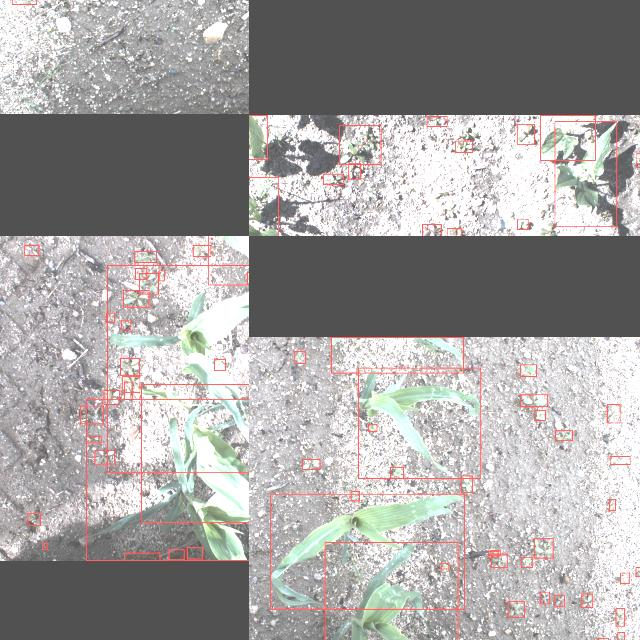crop: (106, 264, 249, 472), (86, 398, 249, 560), (270, 493, 464, 609), (142, 383, 249, 522), (358, 367, 480, 478), (324, 541, 457, 640), (555, 120, 617, 226), (331, 336, 463, 372), (540, 114, 596, 160), (208, 236, 249, 284), (249, 175, 278, 236), (249, 114, 268, 159)
weed: (339, 124, 381, 164), (80, 405, 104, 423), (123, 290, 149, 306), (534, 538, 554, 558), (140, 272, 158, 294), (517, 123, 535, 143), (520, 394, 548, 406), (120, 358, 140, 374), (124, 552, 160, 560), (122, 376, 140, 392), (95, 450, 115, 464), (606, 403, 620, 422), (134, 250, 156, 262), (508, 601, 524, 617), (322, 172, 343, 184), (422, 223, 441, 236), (104, 390, 120, 404), (491, 553, 507, 567), (193, 244, 211, 256), (427, 115, 447, 125), (349, 162, 361, 178), (456, 140, 472, 152), (520, 364, 536, 376), (462, 474, 472, 492), (302, 459, 320, 469), (187, 548, 203, 558), (168, 550, 184, 560), (610, 456, 630, 464), (556, 430, 572, 440), (28, 513, 40, 525), (214, 358, 226, 370), (124, 381, 132, 399), (616, 608, 624, 626), (294, 350, 306, 362), (391, 467, 404, 478), (25, 244, 39, 254), (582, 593, 592, 607), (446, 228, 461, 236), (620, 572, 630, 584), (521, 557, 533, 567), (534, 410, 546, 420), (540, 592, 550, 604), (554, 594, 564, 606), (518, 218, 528, 228), (121, 320, 131, 330), (136, 268, 146, 278), (350, 491, 360, 501), (86, 436, 102, 442), (106, 312, 114, 322), (488, 551, 499, 557), (609, 498, 615, 509), (368, 424, 377, 431), (636, 153, 640, 167), (617, 632, 624, 640), (160, 270, 164, 280), (636, 567, 640, 577), (491, 550, 501, 554), (42, 543, 48, 549), (441, 564, 449, 568)
